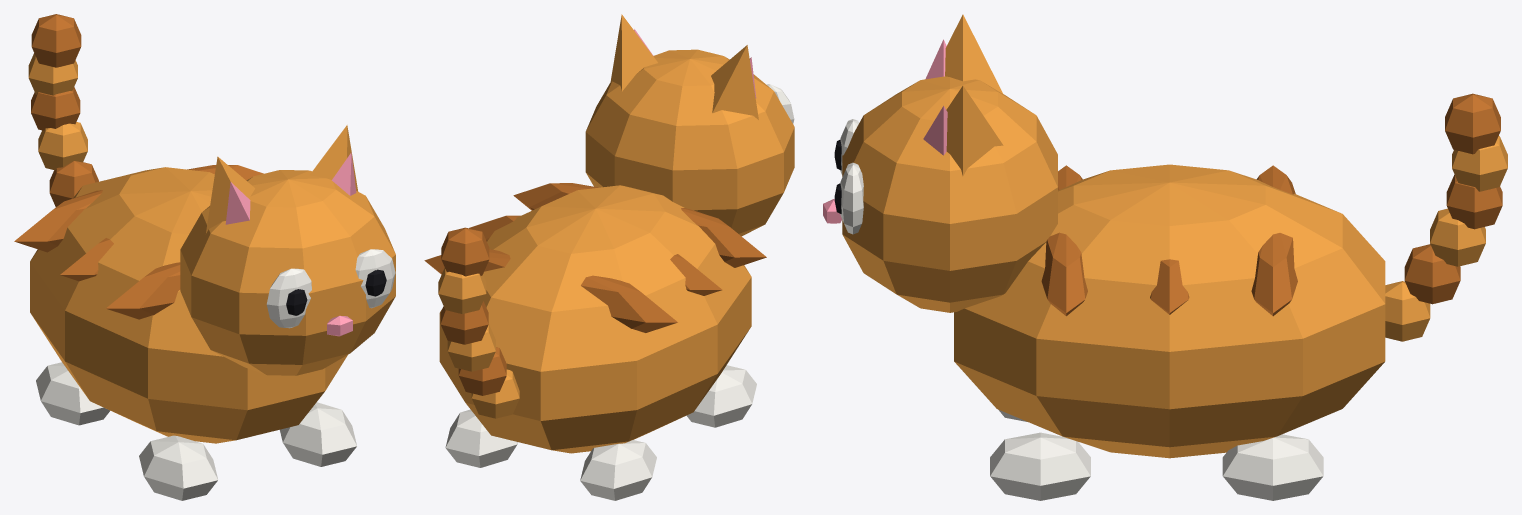
Rendered from cat_michi.glb.
The picture shows the model from 3 angles, left to right: view 1: azimuth 30°, elevation 25°; view 2: azimuth 150°, elevation 25°; view 3: azimuth 270°, elevation 25°; orthographic projection. The views are drawn at different scales.
Parts seen in each view (by area): view 1: body_cat_orange, head_cat_orange, feet_white, body_cat_stripe, tail_cat_stripe, tail_cat_orange, face_white, head_cat_pink, face_black, face_cat_pink; view 2: body_cat_orange, head_cat_orange, feet_white, body_cat_stripe, tail_cat_stripe, tail_cat_orange; view 3: body_cat_orange, head_cat_orange, feet_white, body_cat_stripe, tail_cat_stripe, tail_cat_orange, face_white, head_cat_pink.
Boxes of the visible parts, box(x1,y1,x2,y2) form: body_cat_orange: box(30, 167, 347, 443); head_cat_orange: box(180, 125, 395, 375); feet_white: box(36, 362, 356, 500); body_cat_stripe: box(14, 165, 263, 319); tail_cat_stripe: box(31, 14, 98, 206); tail_cat_orange: box(28, 53, 87, 170); face_white: box(266, 249, 395, 328); head_cat_pink: box(225, 152, 356, 224); face_black: box(286, 269, 386, 315); face_cat_pink: box(327, 315, 352, 336); body_cat_orange: box(439, 185, 751, 453); head_cat_orange: box(585, 14, 794, 236); feet_white: box(445, 365, 756, 500); body_cat_stripe: box(424, 183, 766, 332); tail_cat_stripe: box(440, 227, 506, 395); tail_cat_orange: box(438, 267, 519, 418); body_cat_orange: box(954, 164, 1385, 458); head_cat_orange: box(842, 14, 1057, 312); feet_white: box(990, 409, 1323, 500); body_cat_stripe: box(1041, 165, 1297, 316); tail_cat_stripe: box(1404, 93, 1502, 304); tail_cat_orange: box(1385, 136, 1507, 341); face_white: box(840, 119, 863, 234); head_cat_pink: box(923, 39, 947, 155).
Size of the model in its own units: 0.264 by 0.3484 by 0.5299.
